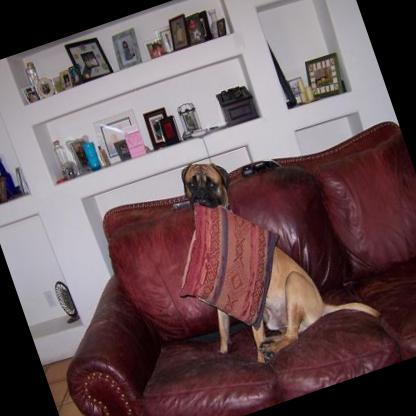bull_mastiff: (152, 113, 388, 383)
